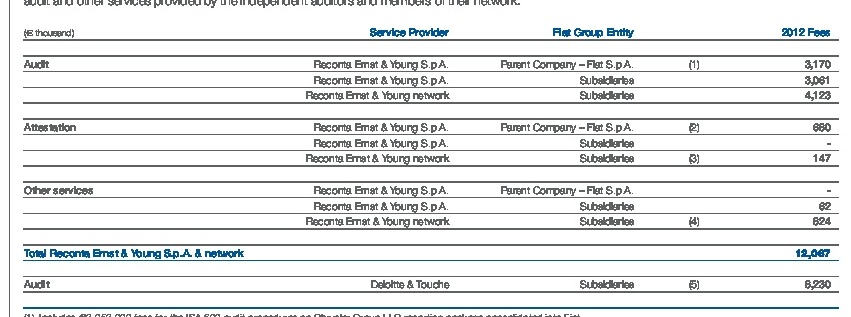table: (0, 0, 851, 317)
